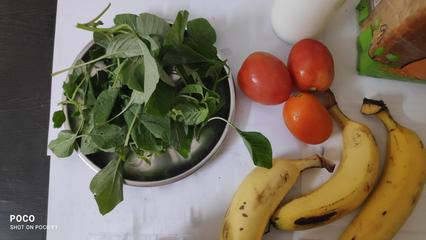banana: (306, 124, 426, 240), (235, 153, 298, 240)
spinach: (90, 45, 195, 144)
tomato: (239, 52, 351, 148)
